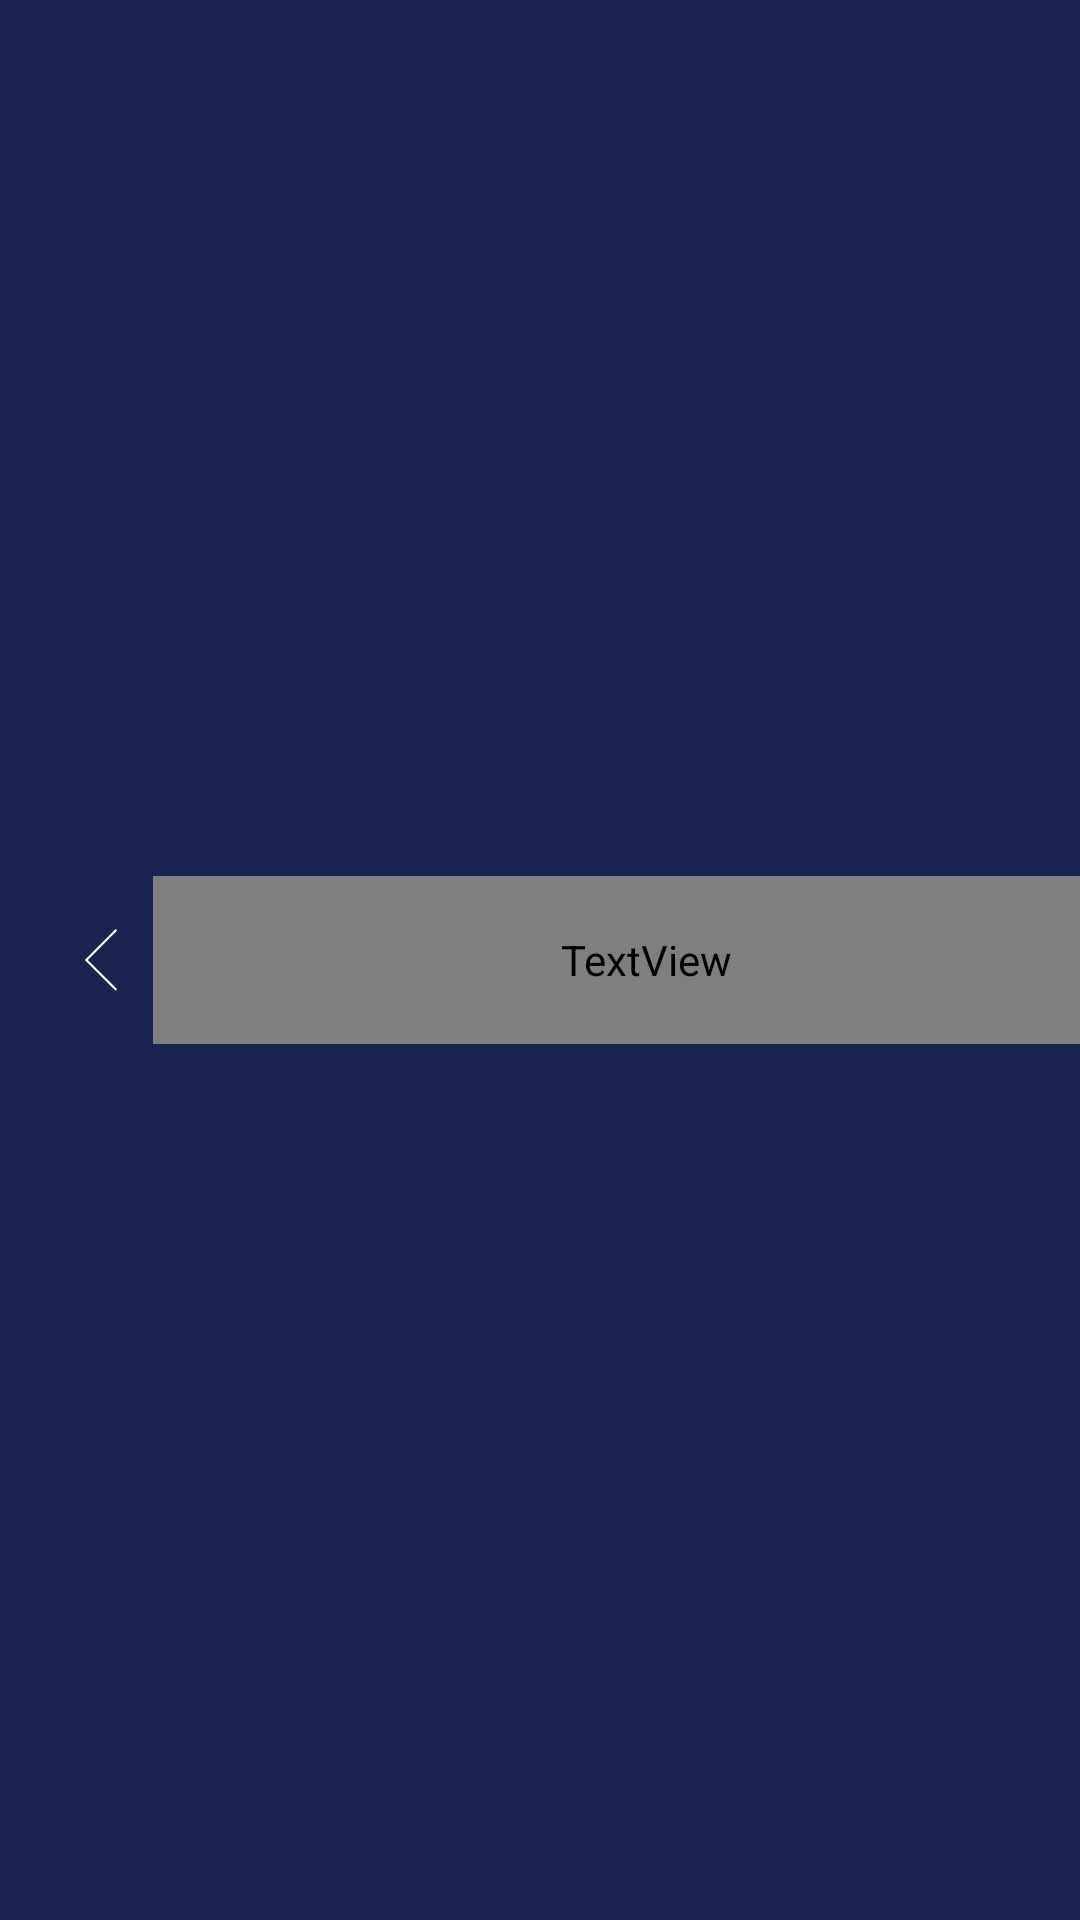

Icons on this 1080 × 1920 Android screen, each with the point to tap as [x,y]:
back: [101,960]
